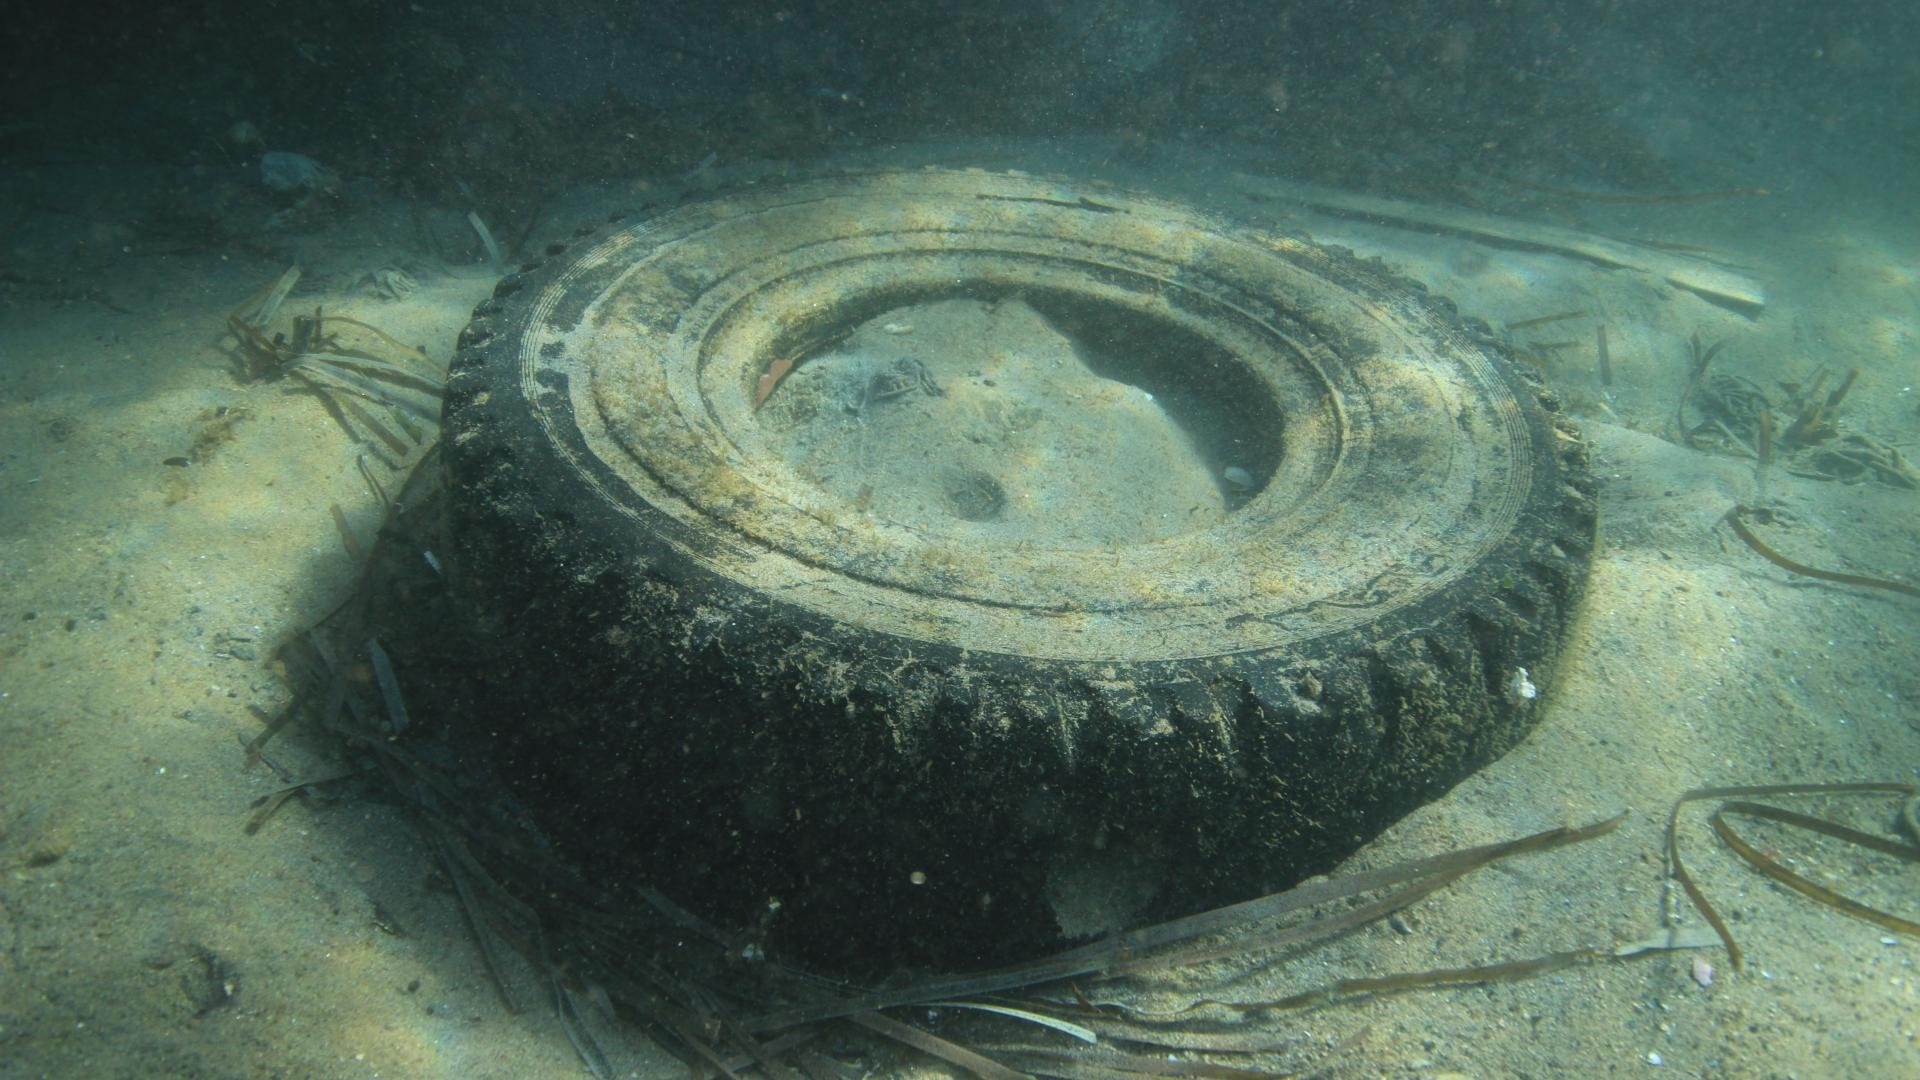tire: (438, 160, 1596, 967)
